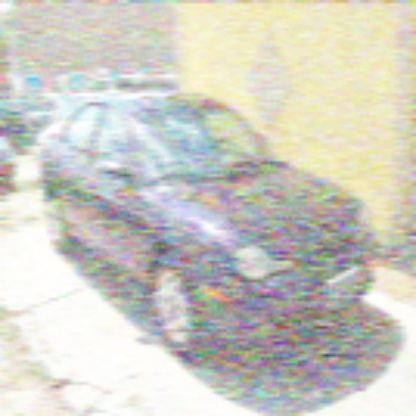Vehicle: (40, 89, 378, 361)
